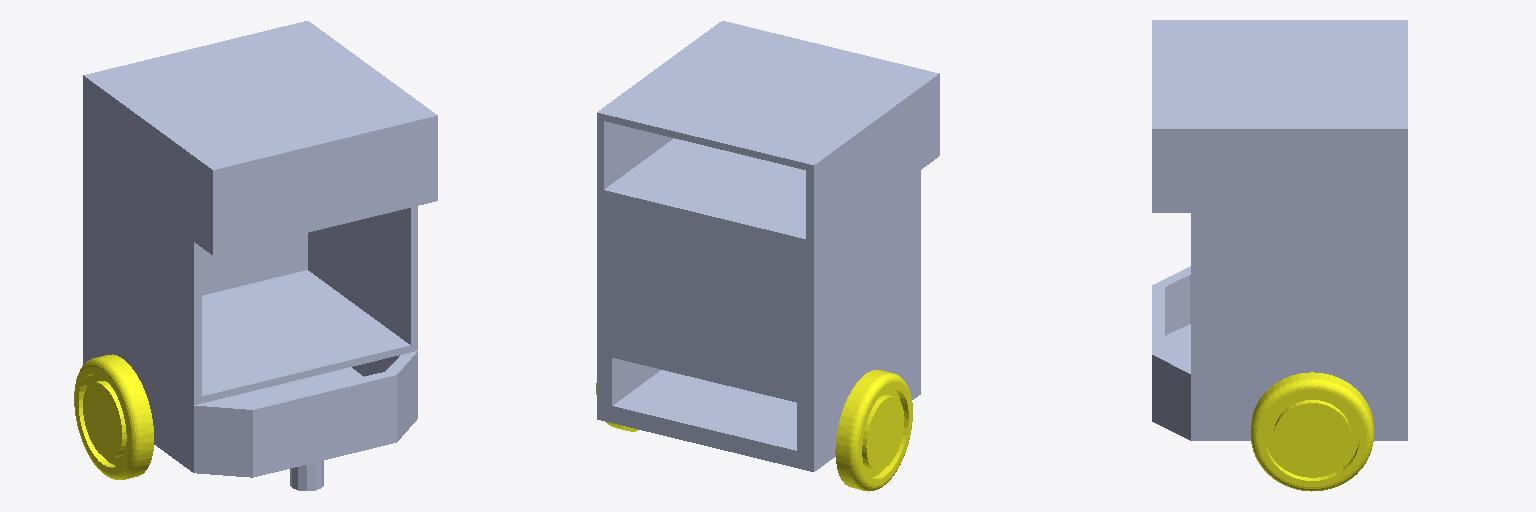
The robot description file, URDF, robot "completedesign":
<?xml version="1.0" encoding="utf-8"?>
<!-- This URDF was automatically created by SolidWorks to URDF Exporter! Originally created by [author] ([email redacted]) 
     Commit Version: 1.4.4-24-g24328f6  Build Version: 1.5.7084.36479
     For more information, please see http://wiki.ros.org/sw_urdf_exporter -->
<robot
  name="completedesign">
  <link
    name="base_link">
    <inertial>
      <origin
        xyz="0.204068996857784 0.196674687276124 0.269536522196903"
        rpy="0 0 0" />
      <mass
        value="11.1812590354434" />
      <inertia
        ixx="0.395770367096526"
        ixy="0.00130010297354412"
        ixz="-4.42738970032154E-05"
        iyy="0.271389565592583"
        iyz="-0.00731814430780011"
        izz="0.420095208167645" />
    </inertial>
    <visual>
      <origin
        xyz="0 0 0"
        rpy="0 0 0" />
      <geometry>
        <mesh
          filename="package://completedesign/meshes/base_link.STL" />
      </geometry>
      <material
        name="">
        <color
          rgba="0.792156862745098 0.819607843137255 0.933333333333333 1" />
      </material>
    </visual>
    <collision>
      <origin
        xyz="0 0 0"
        rpy="0 0 0" />
      <geometry>
        <mesh
          filename="package://completedesign/meshes/base_link.STL" />
      </geometry>
    </collision>
  </link>
  <link
    name="wheel1">
    <inertial>
      <origin
        xyz="0 0 0"
        rpy="0 0 0" />
      <mass
        value="0.512281743012307" />
      <inertia
        ixx="0.00170829050275458"
        ixy="-6.58393295286078E-20"
        ixz="-1.05343668637244E-19"
        iyy="0.000890721591291776"
        iyz="0"
        izz="0.000890721591291776" />
    </inertial>
    <visual>
      <origin
        xyz="0.01 -0.25 -0.23"
        rpy="0 0 0" />
      <geometry>
        <mesh
          filename="package://completedesign/meshes/wheel1.STL" />
      </geometry>
      <material
        name="">
        <color
          rgba="1 1 0.2 1" />
      </material>
    </visual>
    <collision>
      <origin
        xyz="0.01 -0.25 -0.23"
        rpy="0 0 0" />
      <geometry>
        <mesh
          filename="package://completedesign/meshes/wheel1.STL" />
      </geometry>
    </collision>
  </link>
  <joint
    name="base_to_wheel1"
    type="continuous">
    <origin
      xyz="0 0 0"
      rpy="0 0 0" />
    <parent
      link="base_link" />
    <child
      link="wheel1" />
    <axis
      xyz="1 0 0" />
    <safety_controller
      k_velocity="0" />
  </joint>
    <link
    name="wheel2">
    <inertial>
      <origin
        xyz="0 0 0"
        rpy="0 0 0" />
      <mass
        value="0.512281743012307" />
      <inertia
        ixx="0.00170829050275458"
        ixy="-6.58393295286078E-20"
        ixz="-1.05343668637244E-19"
        iyy="0.000890721591291776"
        iyz="0"
        izz="0.000890721591291776" />
    </inertial>
    <visual>
      <origin
        xyz="0 -0.25 -0.23"
        rpy="0 0 0" />
      <geometry>
        <mesh
          filename="package://completedesign/meshes/wheel2.STL" />
      </geometry>
      <material
        name="">
        <color
          rgba="1 1 0.2 1" />
      </material>
    </visual>
    <collision>
      <origin
        xyz="0 -0.25 -0.23"
        rpy="0 0 0" />
      <geometry>
        <mesh
          filename="package://completedesign/meshes/wheel2.STL" />
      </geometry>
    </collision>
  </link>
  <joint
    name="base_to_wheel2"
    type="continuous">
    <origin
      xyz="0 0 0"
      rpy="0 0 0" />
    <parent
      link="base_link" />
    <child
      link="wheel2" />
    <axis
      xyz="1 0 0" />
    <safety_controller
      k_velocity="0" />
  </joint>

</robot>

--- What the picture shows (computed from the rendered views, not written in the file) ---
The picture shows the robot from 3 angles, left to right: view 1: azimuth 30°, elevation 25°; view 2: azimuth 150°, elevation 25°; view 3: azimuth 270°, elevation 25°; orthographic projection.
Model completedesign with 3 links and 2 joints (2 continuous), rooted at base_link, posed every joint at zero.
Links seen in each view (by area): view 1: base_link, wheel1; view 2: base_link, wheel1; view 3: base_link, wheel2.
Link boxes in pixels (x1,y1,x2,y2): base_link: (83, 21, 437, 490); wheel1: (74, 354, 153, 479); base_link: (597, 21, 939, 471); wheel1: (835, 370, 912, 491); base_link: (1152, 20, 1407, 440); wheel2: (1251, 372, 1373, 491).
Size in the robot's own frame: 0.4 by 0.33 by 0.507 metres.
3 mesh visuals loaded from 3 distinct referenced files (3 binary STL).